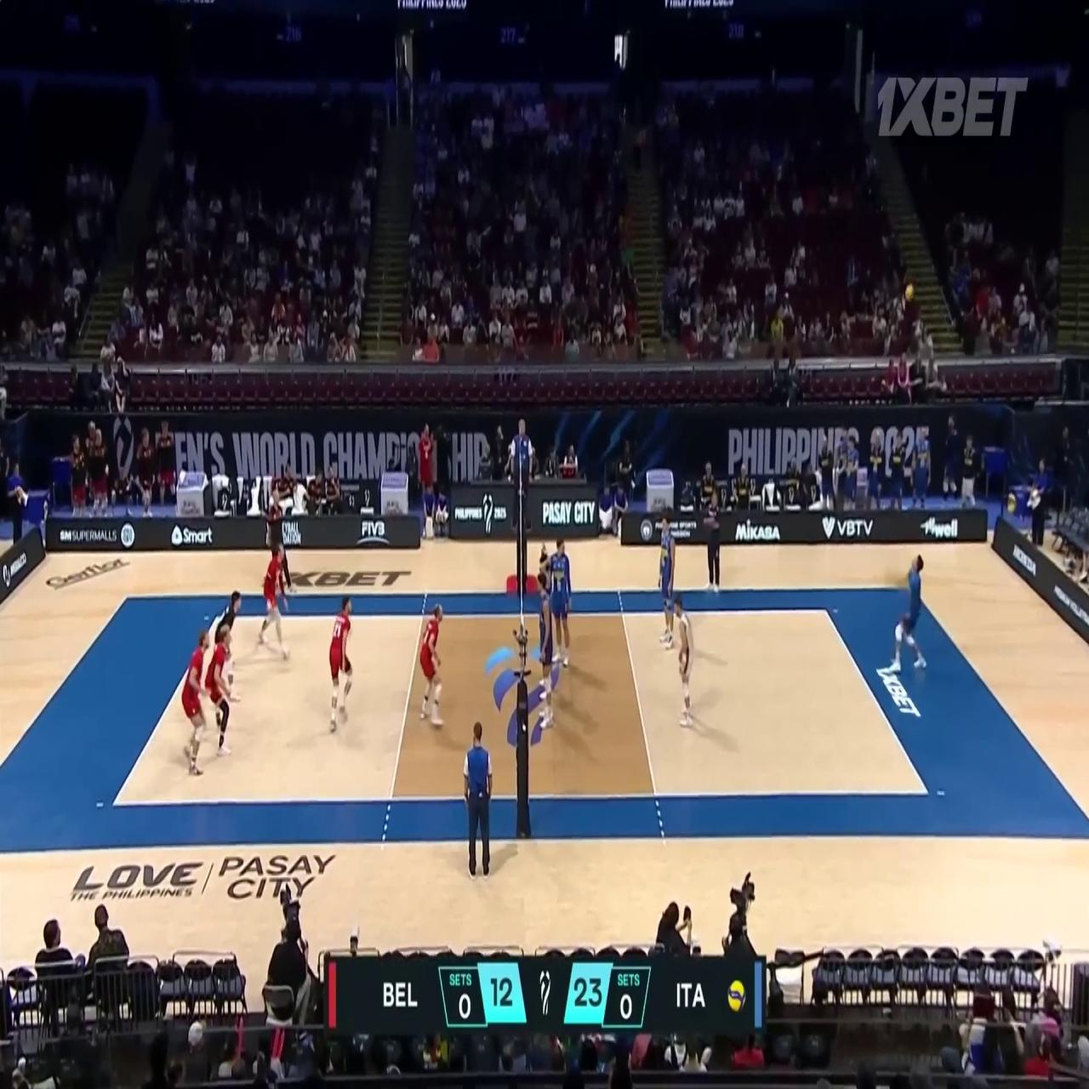ball: (906, 285, 913, 302)
